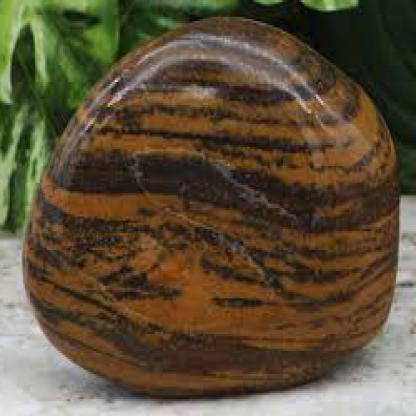Metamorphic_Quartize: (21, 6, 402, 399)
